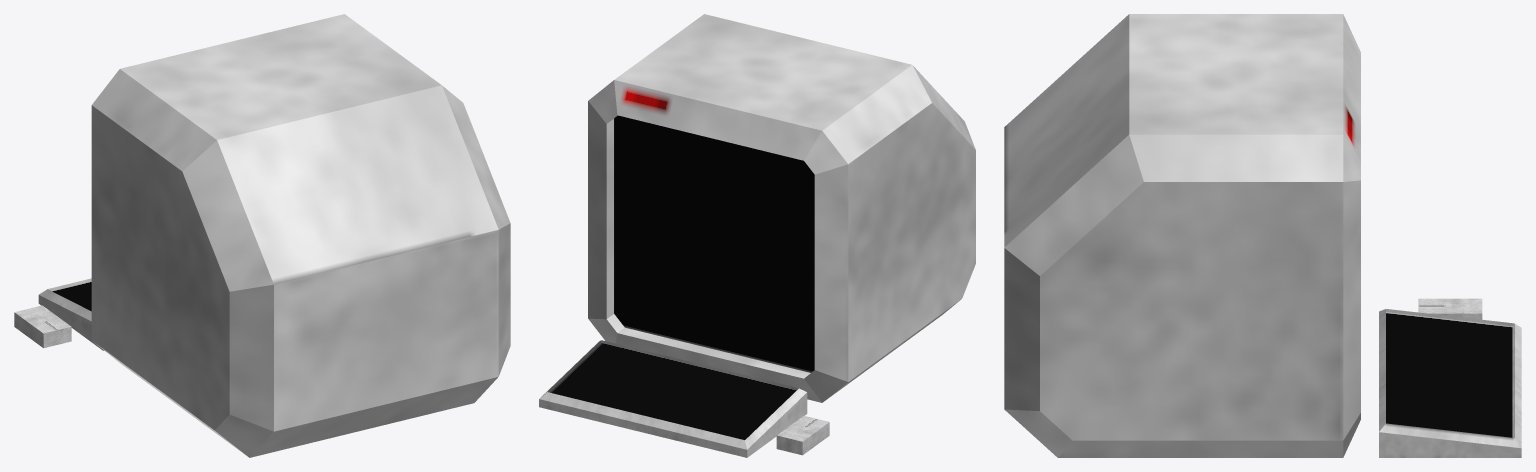
The model's file is computer.fbx.
The picture shows the model from 3 angles, left to right: view 1: azimuth 30°, elevation 25°; view 2: azimuth 150°, elevation 25°; view 3: azimuth 270°, elevation 25°; orthographic projection. The views are drawn at different scales.
Parts seen in each view (by area): view 1: Monitor, Mouse, KeyBoard, KeyboardFace; view 2: Monitor, KeyboardFace, KeyBoard, Mouse; view 3: Monitor, KeyboardFace, KeyBoard, Mouse.
Boxes of the visible parts, box(x1,y1,x2,y2) form: Monitor: box(91, 14, 510, 457); Mouse: box(14, 305, 71, 348); KeyBoard: box(38, 278, 104, 350); KeyboardFace: box(52, 281, 91, 311); Monitor: box(588, 14, 975, 402); KeyboardFace: box(550, 342, 796, 439); KeyBoard: box(539, 340, 807, 457); Mouse: box(776, 416, 829, 455); Monitor: box(1004, 14, 1360, 457); KeyboardFace: box(1386, 312, 1513, 437); KeyBoard: box(1379, 309, 1521, 457); Mouse: box(1418, 298, 1482, 319).
Size of the model in its own units: 2.1 by 2 by 2.9.
